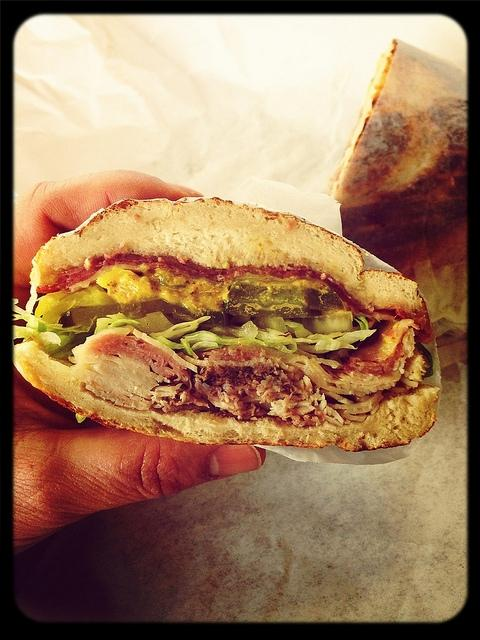lettuce: (408, 260, 467, 325), (180, 330, 268, 360), (256, 328, 298, 346), (314, 336, 358, 352), (191, 341, 218, 351), (37, 320, 47, 332)
